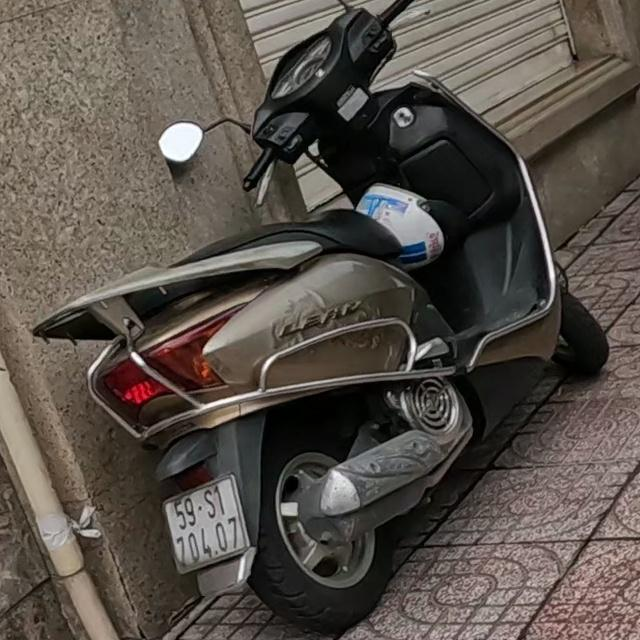license-plate: (163, 472, 254, 575)
